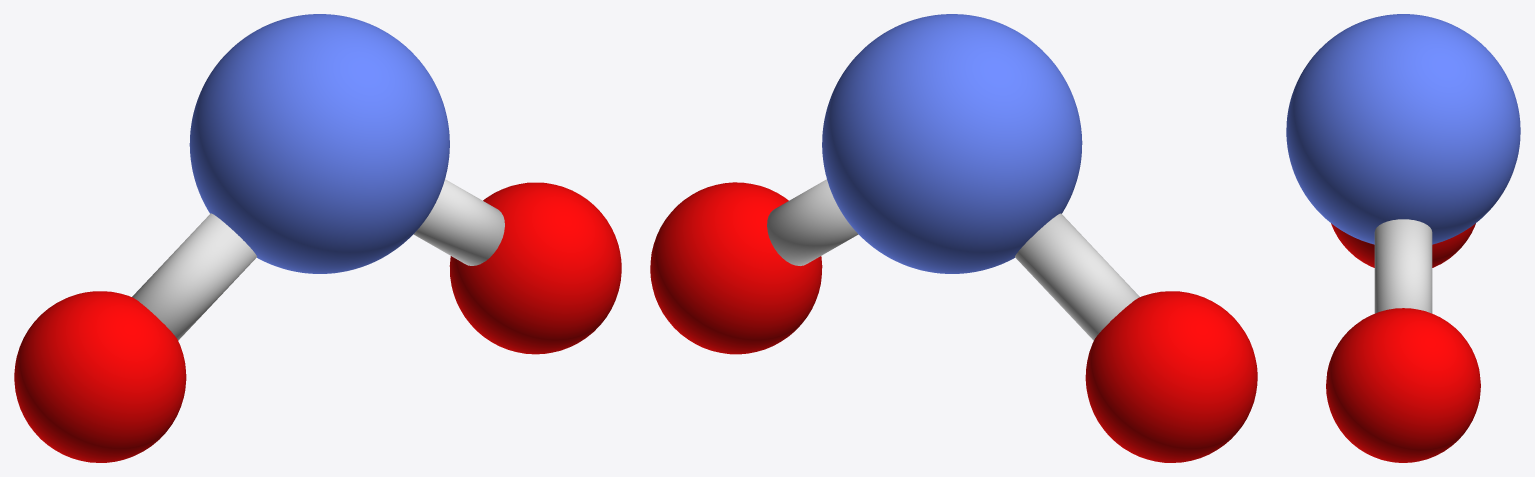
The picture shows the model from 3 angles, left to right: view 1: azimuth 30°, elevation 25°; view 2: azimuth 150°, elevation 25°; view 3: azimuth 270°, elevation 25°; orthographic projection. The views are drawn at different scales.
Visible parts, largest first — view 1: Object_2, Object_4, Object_3; view 2: Object_2, Object_4, Object_3; view 3: Object_2, Object_4, Object_3.
Boxes of the visible parts, left/top/right/bottom form: Object_2: left=189, top=14, right=449, bottom=273; Object_4: left=14, top=182, right=621, bottom=462; Object_3: left=132, top=179, right=504, bottom=340; Object_2: left=822, top=14, right=1082, bottom=273; Object_4: left=650, top=182, right=1257, bottom=462; Object_3: left=767, top=179, right=1139, bottom=340; Object_2: left=1286, top=14, right=1520, bottom=244; Object_4: left=1326, top=223, right=1480, bottom=462; Object_3: left=1374, top=219, right=1432, bottom=313.
Size of the model in its own units: 0.8235 by 0.5053 by 0.3175.
